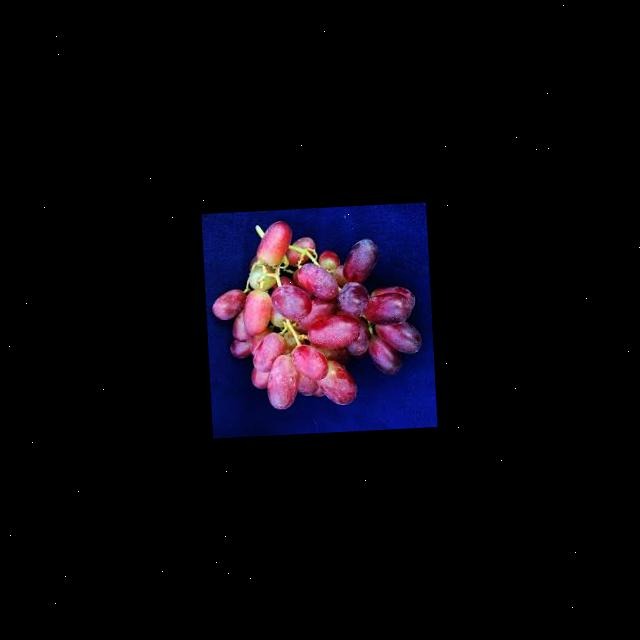grape: (207, 212, 426, 412)
